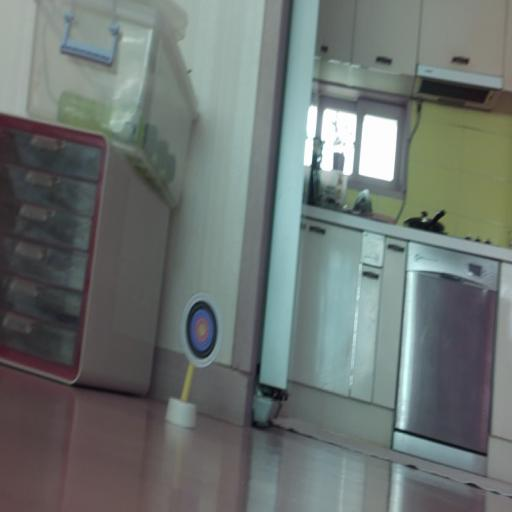target: (182, 294, 221, 367)
